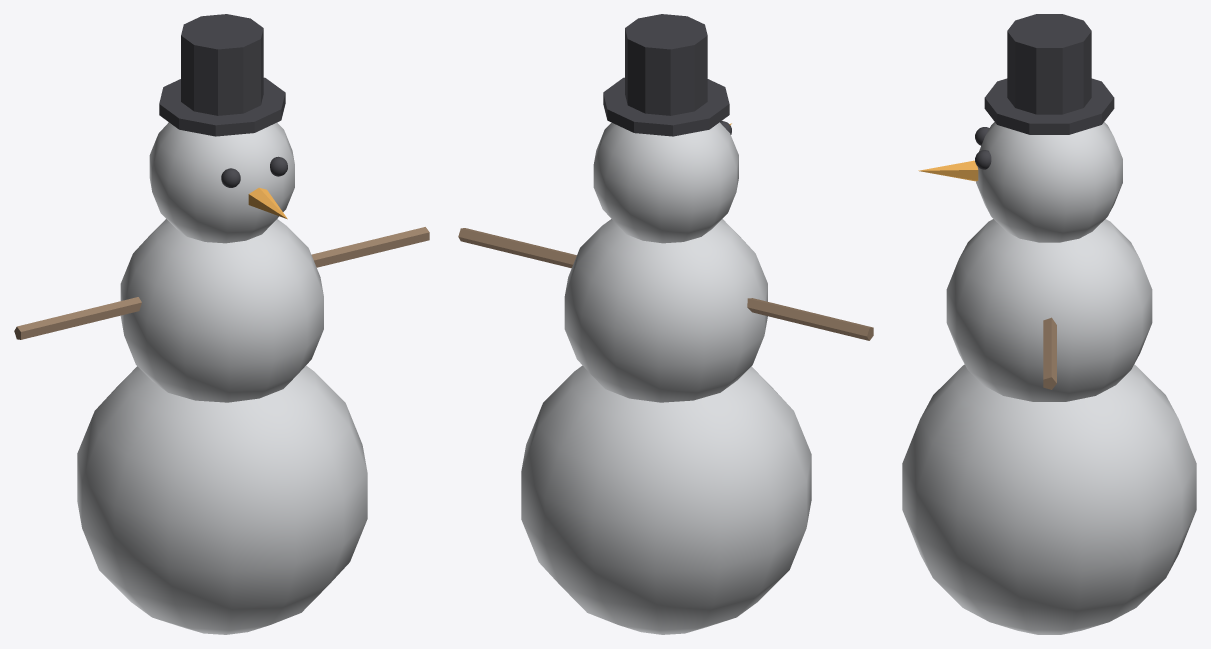
File: snow__snowman.fbx
3 renders of one model, left to right at view 1: azimuth 30°, elevation 25°; view 2: azimuth 150°, elevation 25°; view 3: azimuth 270°, elevation 25°, orthographic.
Visible parts, largest first — view 1: snow__snowman; view 2: snow__snowman; view 3: snow__snowman.
Boxes of the visible parts, box(x1,y1,x2,y2) form: snow__snowman: box(14, 14, 429, 634); snow__snowman: box(458, 14, 873, 634); snow__snowman: box(902, 14, 1196, 634).
Size of the model in its own units: 1.9 by 2.62 by 1.18.
